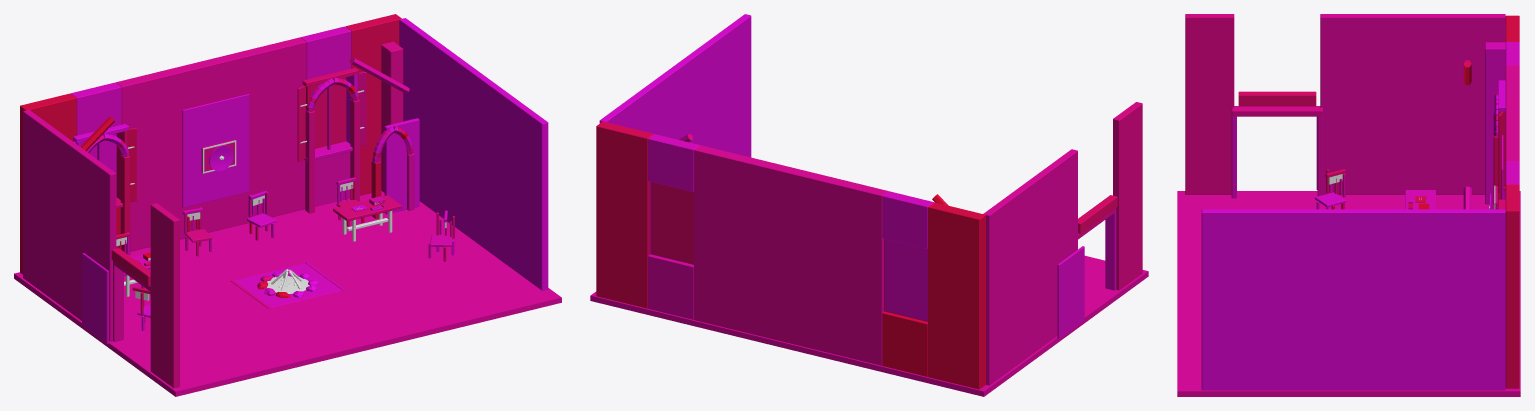
Rendered from court_chapter_08.glb.
3 views of the same model, side by side, from view 1: azimuth 30°, elevation 25°; view 2: azimuth 150°, elevation 25°; view 3: azimuth 270°, elevation 25° (orthographic). The views are drawn at different scales.
Parts seen in each view (by area): view 1: Floor, WallRight, WallBackPier_1, WallLeftRear, StoneHallHanging, WallLeftFront, WallBackPier_end, SolarScreen, WallBackHigh_1, OpenDoorLeaf, WallBackPier_0, WallBackHigh_0 (+25 smaller); view 2: WallBackPier_1, WallLeftRear, WallRight, WallBackPier_0, WallBackPier_end, Floor, WallLeftFront, Glazing_0, Glazing_1, WallBackLow_1, WallBackLow_0, WallBackHigh_0 (+4 smaller); view 3: WallRight, WallLeftRear, Floor, WallLeftFront, WallBackPier_end, HallButtress_-5.2, WallBackPier_1, DoorLintel, EntranceHeader, Chair_officials_2, EntranceJamb_2.8, EntranceJamb_0.7 (+6 smaller).
Part boxes in pixels (x1,y1,x2,y2): Floor: [14, 191, 561, 396]; WallRight: [399, 18, 548, 290]; WallBackPier_1: [116, 37, 306, 251]; WallLeftRear: [23, 110, 116, 341]; StoneHallHanging: [182, 94, 249, 207]; WallLeftFront: [150, 203, 179, 388]; WallBackPier_end: [345, 14, 401, 195]; SolarScreen: [384, 118, 419, 214]; WallBackHigh_1: [300, 26, 351, 79]; OpenDoorLeaf: [82, 253, 108, 344]; WallBackPier_0: [20, 93, 76, 274]; WallBackHigh_0: [71, 82, 121, 135]; WallBackPier_1: [694, 145, 888, 365]; WallLeftRear: [983, 149, 1077, 385]; WallRight: [599, 14, 751, 157]; WallBackPier_0: [928, 202, 985, 389]; WallBackPier_end: [596, 121, 653, 308]; Floor: [590, 255, 1148, 396]; WallLeftFront: [1113, 102, 1142, 290]; Glazing_0: [884, 239, 927, 321]; Glazing_1: [650, 182, 693, 264]; WallBackLow_1: [648, 254, 693, 319]; WallBackLow_0: [882, 311, 927, 376]; WallBackHigh_0: [882, 191, 933, 248]; WallRight: [1201, 209, 1505, 390]; WallLeftRear: [1320, 14, 1505, 194]; Floor: [1177, 191, 1520, 396]; WallLeftFront: [1185, 14, 1234, 194]; WallBackPier_end: [1505, 184, 1519, 388]; HallButtress_-5.2: [1485, 42, 1505, 204]; WallBackPier_1: [1505, 65, 1519, 161]; DoorLintel: [1238, 91, 1316, 106]; EntranceHeader: [1231, 106, 1322, 116]; Chair_officials_2: [1315, 169, 1345, 209]; EntranceJamb_2.8: [1231, 116, 1236, 198]; EntranceJamb_0.7: [1317, 116, 1322, 196].
Bounding box in the file's own units: 11.7 × 4.95 × 8.4.
